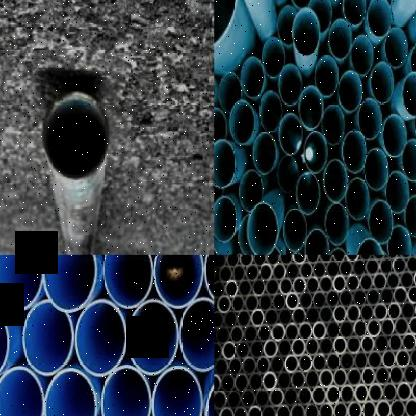pipe: (43, 90, 110, 181), (74, 299, 126, 376), (23, 300, 74, 376), (128, 300, 178, 376), (42, 255, 96, 311), (102, 255, 153, 309), (153, 255, 203, 308), (152, 365, 203, 416), (100, 365, 151, 416), (179, 298, 214, 372), (44, 368, 96, 416), (0, 255, 43, 312), (0, 366, 45, 416), (246, 202, 278, 255), (292, 7, 320, 56), (298, 86, 324, 130), (230, 99, 254, 145), (382, 114, 407, 157), (368, 201, 393, 244), (323, 159, 348, 202), (214, 196, 237, 242), (364, 147, 388, 191), (342, 130, 366, 173), (283, 209, 307, 252), (346, 177, 370, 220), (296, 172, 320, 215), (214, 140, 235, 188), (252, 132, 276, 174), (304, 131, 328, 173), (278, 113, 302, 155), (322, 104, 346, 146), (358, 98, 382, 140), (278, 64, 302, 106), (314, 55, 338, 97), (325, 203, 349, 245), (385, 171, 409, 213), (239, 170, 263, 212), (259, 91, 283, 132), (338, 71, 362, 112), (370, 62, 394, 103), (384, 27, 408, 68), (219, 71, 242, 113), (240, 57, 264, 97), (350, 35, 374, 75), (328, 19, 352, 59), (262, 38, 286, 77), (367, 0, 392, 36), (277, 5, 298, 46), (276, 154, 298, 193), (309, 0, 332, 33), (0, 301, 9, 384), (387, 224, 411, 254), (401, 72, 416, 118), (401, 138, 416, 182), (304, 229, 328, 255), (342, 0, 366, 25), (214, 107, 227, 149), (355, 237, 384, 255), (404, 194, 416, 237), (214, 167, 224, 206), (382, 382, 398, 403), (276, 370, 292, 391), (269, 354, 285, 375), (368, 382, 383, 404), (262, 370, 277, 392), (263, 338, 278, 360), (283, 387, 298, 408), (354, 383, 369, 404), (234, 372, 249, 393), (381, 349, 396, 370), (395, 349, 410, 370), (241, 388, 255, 410), (305, 368, 319, 390), (361, 366, 375, 388), (214, 356, 228, 378), (305, 336, 319, 358), (256, 324, 272, 343), (269, 388, 284, 408), (297, 386, 312, 406), (340, 384, 355, 404), (248, 372, 263, 392), (312, 353, 327, 373), (277, 338, 292, 358), (346, 335, 361, 355), (360, 334, 375, 354), (401, 332, 416, 352), (229, 325, 244, 345), (270, 323, 285, 343), (284, 322, 299, 342), (353, 319, 368, 339), (394, 317, 409, 337), (250, 308, 265, 328), (325, 289, 340, 309), (255, 388, 269, 409), (312, 385, 326, 406), (326, 384, 340, 405), (319, 368, 333, 389), (389, 365, 403, 386), (402, 364, 416, 385), (228, 356, 242, 377), (298, 353, 312, 374), (250, 339, 264, 360), (319, 336, 333, 357), (387, 301, 401, 322), (375, 398, 391, 416), (390, 398, 406, 416), (215, 326, 230, 345), (312, 321, 327, 340), (339, 320, 354, 339), (380, 318, 395, 337), (264, 308, 279, 327), (305, 306, 320, 325), (332, 305, 347, 324), (400, 301, 415, 320), (230, 294, 245, 313), (339, 289, 354, 308), (251, 278, 266, 297), (305, 276, 320, 295), (318, 275, 333, 294), (332, 274, 347, 293), (227, 390, 241, 410), (397, 382, 411, 402), (220, 373, 234, 393), (291, 370, 305, 390), (333, 368, 347, 388), (347, 368, 361, 388), (375, 366, 389, 386), (242, 356, 256, 376), (256, 356, 270, 376), (284, 354, 298, 374), (326, 352, 340, 372), (340, 352, 354, 372), (354, 351, 368, 371), (368, 350, 382, 370), (222, 341, 236, 361), (236, 340, 250, 360), (374, 334, 388, 354), (388, 333, 402, 353), (243, 324, 257, 344), (367, 318, 381, 338), (346, 304, 360, 324), (223, 311, 238, 329), (318, 306, 333, 324), (359, 304, 374, 322), (244, 294, 259, 312), (299, 291, 314, 309), (366, 288, 381, 306), (393, 287, 408, 305), (372, 273, 387, 291), (244, 264, 259, 282), (365, 258, 380, 276), (392, 256, 407, 274), (278, 307, 292, 326), (217, 295, 231, 314), (258, 293, 272, 312), (285, 292, 299, 311), (380, 287, 394, 306), (225, 279, 239, 298), (238, 279, 252, 298), (265, 277, 279, 296), (279, 277, 293, 296), (359, 273, 373, 292), (386, 271, 400, 290), (218, 265, 232, 284), (286, 262, 300, 281), (299, 261, 313, 280), (326, 260, 340, 279), (292, 338, 305, 358), (313, 290, 326, 310), (214, 390, 227, 410), (346, 400, 362, 416), (333, 337, 347, 355), (298, 322, 312, 340), (326, 321, 340, 339), (237, 310, 251, 328), (373, 303, 387, 321), (353, 289, 367, 307), (292, 277, 306, 295), (400, 271, 414, 289), (231, 265, 245, 283), (272, 263, 286, 281), (339, 260, 353, 278), (352, 259, 366, 277), (379, 256, 393, 274), (292, 307, 305, 326), (346, 274, 359, 293), (410, 41, 416, 82), (362, 399, 376, 416), (272, 293, 285, 311), (259, 263, 272, 281), (313, 261, 326, 279), (318, 401, 333, 416), (289, 402, 305, 416), (333, 400, 347, 416), (404, 397, 416, 415), (405, 254, 416, 273), (214, 280, 225, 298), (305, 402, 319, 416), (238, 255, 253, 268), (275, 403, 290, 416), (290, 0, 314, 8), (214, 310, 224, 329), (261, 403, 275, 416), (407, 316, 416, 336), (247, 404, 262, 416), (406, 285, 416, 302), (226, 255, 239, 268), (408, 347, 416, 368), (232, 405, 247, 416), (214, 341, 222, 361), (214, 255, 226, 268), (265, 255, 279, 266), (252, 255, 265, 266), (218, 406, 232, 416), (279, 255, 292, 265), (292, 255, 306, 264), (319, 255, 333, 263), (411, 380, 416, 402), (306, 255, 319, 263), (332, 255, 345, 263), (345, 255, 359, 262), (372, 255, 386, 261), (359, 255, 372, 261), (397, 255, 412, 260), (385, 255, 398, 260), (413, 269, 416, 288), (214, 406, 219, 416), (414, 300, 416, 320), (415, 332, 416, 352)
